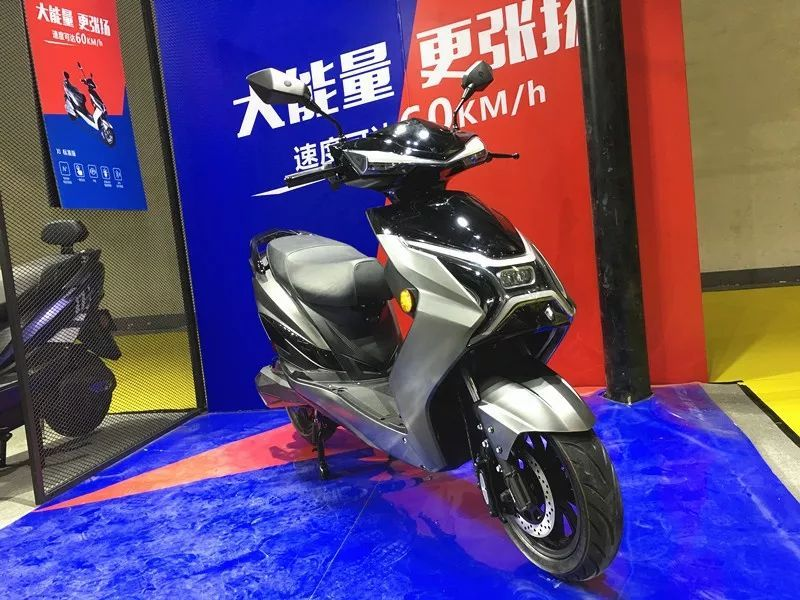电动车: (194, 35, 659, 598)
